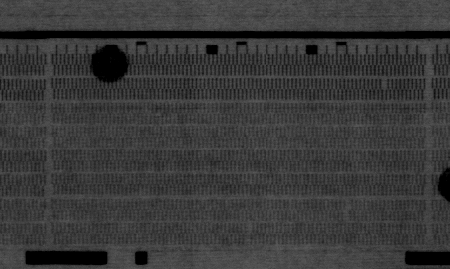Broken hole: (341, 199, 354, 222), (242, 222, 255, 245), (378, 78, 392, 92)
